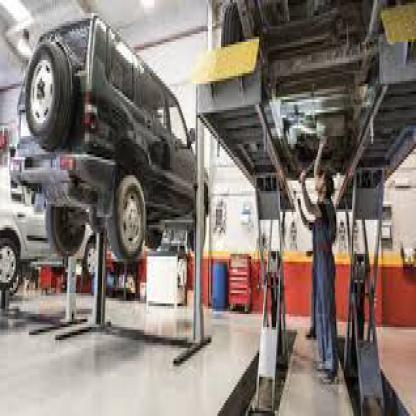dent: (143, 134, 172, 180)
